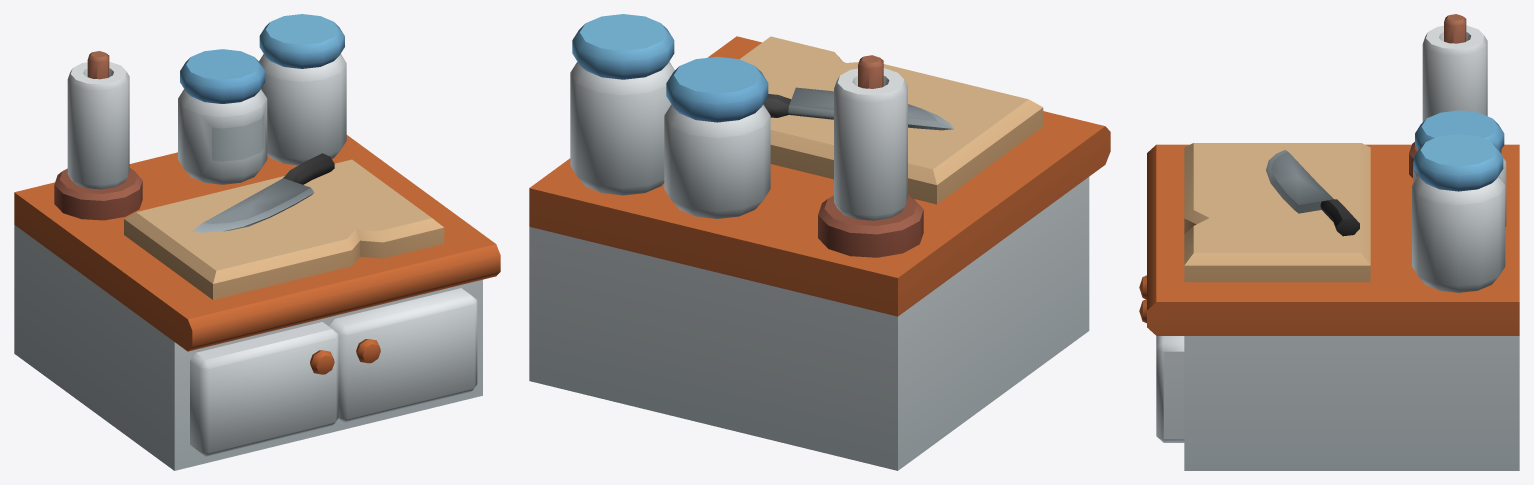
The model's file is kitchencounter_straight_decorated.obj.
The picture shows the model from 3 angles, left to right: view 1: azimuth 30°, elevation 25°; view 2: azimuth 150°, elevation 25°; view 3: azimuth 270°, elevation 25°; orthographic projection. The views are drawn at different scales.
Visible parts, largest first — view 1: kitchencounter_straight_decorated_Cube.001; view 2: kitchencounter_straight_decorated_Cube.001; view 3: kitchencounter_straight_decorated_Cube.001.
Boxes of the visible parts, box(x1,y1,x2,y2) form: kitchencounter_straight_decorated_Cube.001: box(14, 14, 500, 470); kitchencounter_straight_decorated_Cube.001: box(529, 14, 1110, 470); kitchencounter_straight_decorated_Cube.001: box(1139, 14, 1519, 470).
Bounding box in the file's own units: 2 × 1.91 × 2.04.
1 material, 1 textured.
